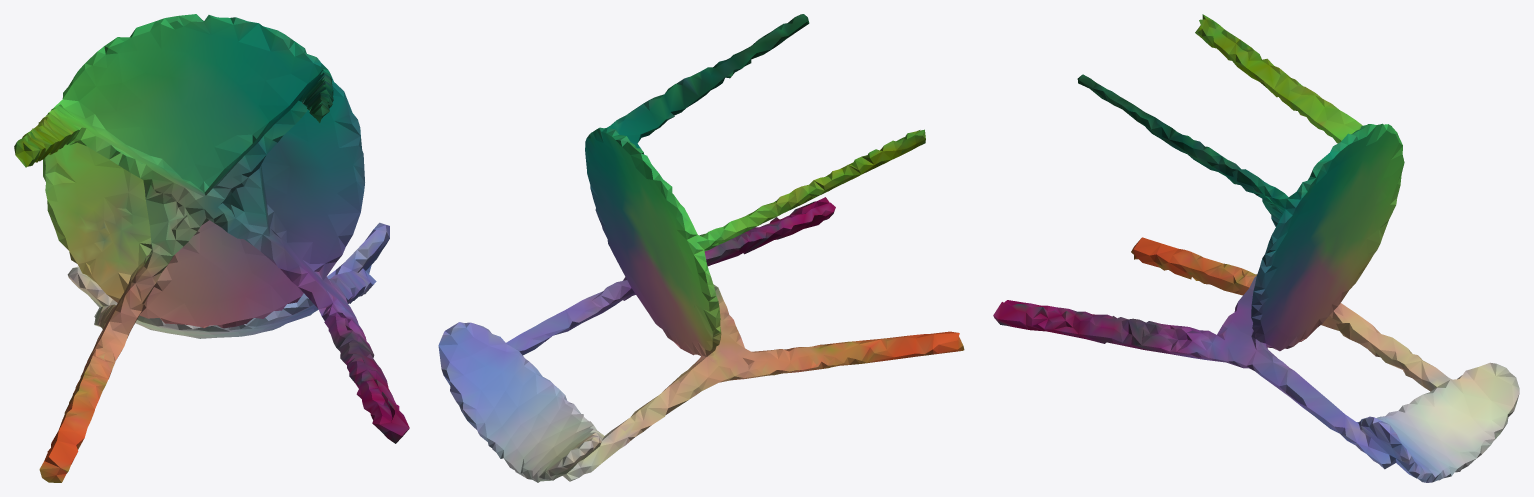
Rendered from corr_chair_meshfm.glb.
3 views of the same model, side by side, from view 1: azimuth 30°, elevation 25°; view 2: azimuth 150°, elevation 25°; view 3: azimuth 270°, elevation 25° (orthographic). The views are drawn at different scales.
Parts seen in each view (by area): view 1: world; view 2: world; view 3: world.
Boxes of the visible parts, <box> form: world: <box>14,14,409,482</box>; world: <box>438,14,964,482</box>; world: <box>993,14,1519,482</box>.
Size of the model in its own units: 1.51 by 1.25 by 1.72.
